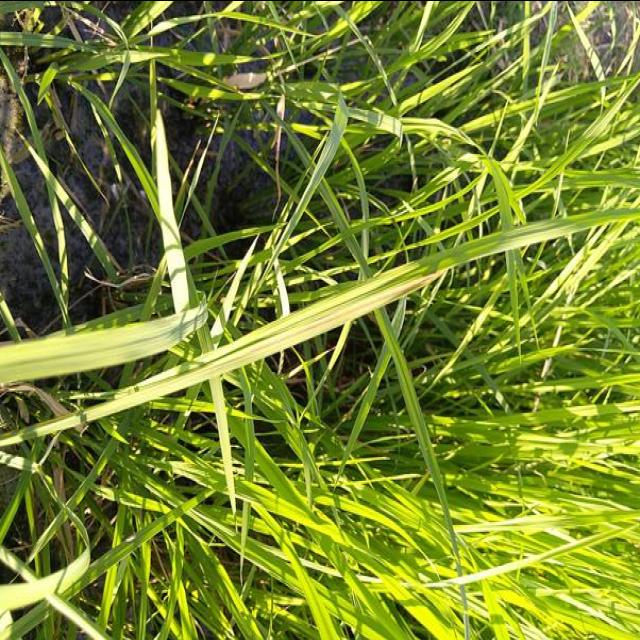Leaf Streak: (81, 258, 450, 418)
